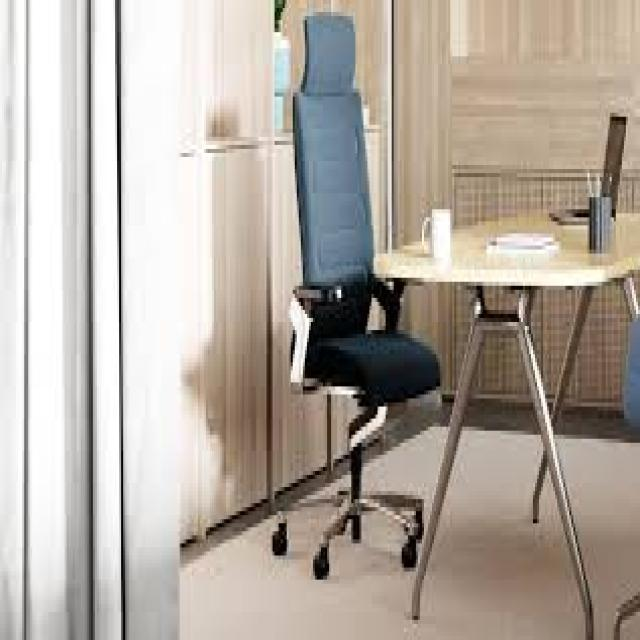chair: (227, 3, 458, 620)
